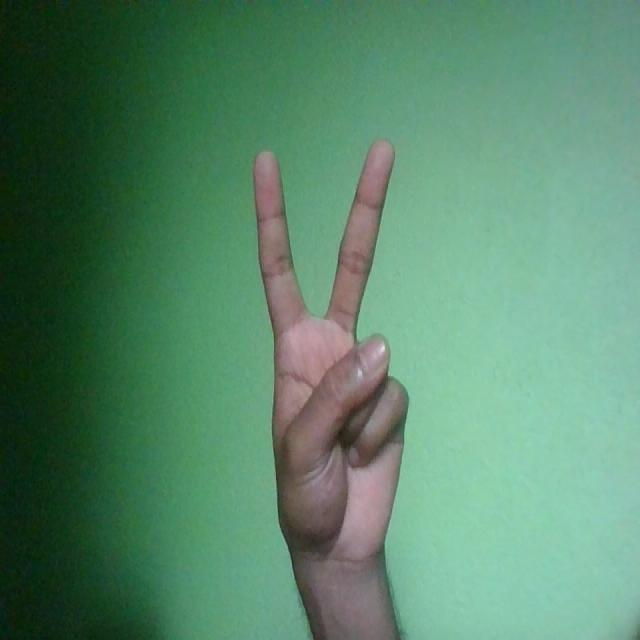Fist: (251, 139, 411, 581)
